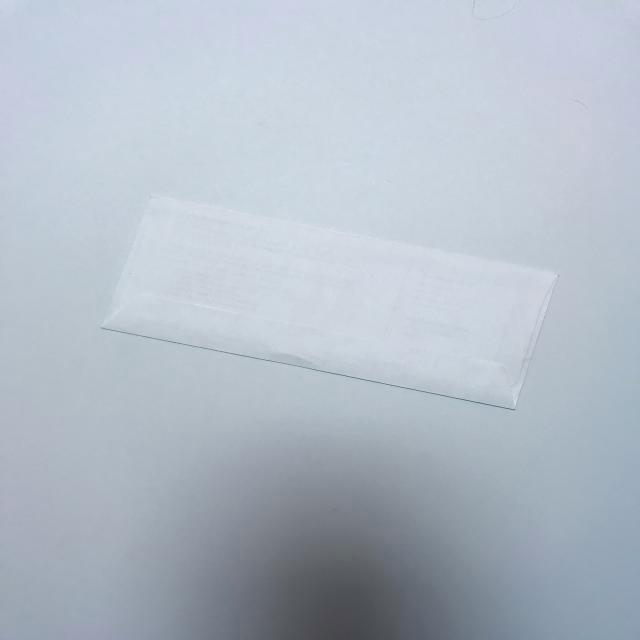paper: (78, 178, 570, 456)
